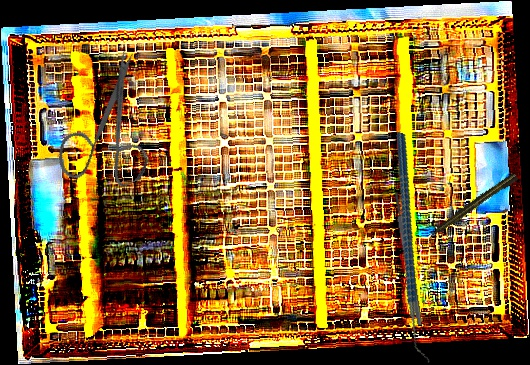Chopper: (341, 131, 486, 364)
Handpiece: (425, 171, 519, 242)
Iris Scissors: (27, 47, 184, 208)
Scalpel Handle: (392, 191, 424, 326)
